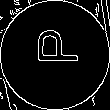P_W: (30, 36, 80, 74)
